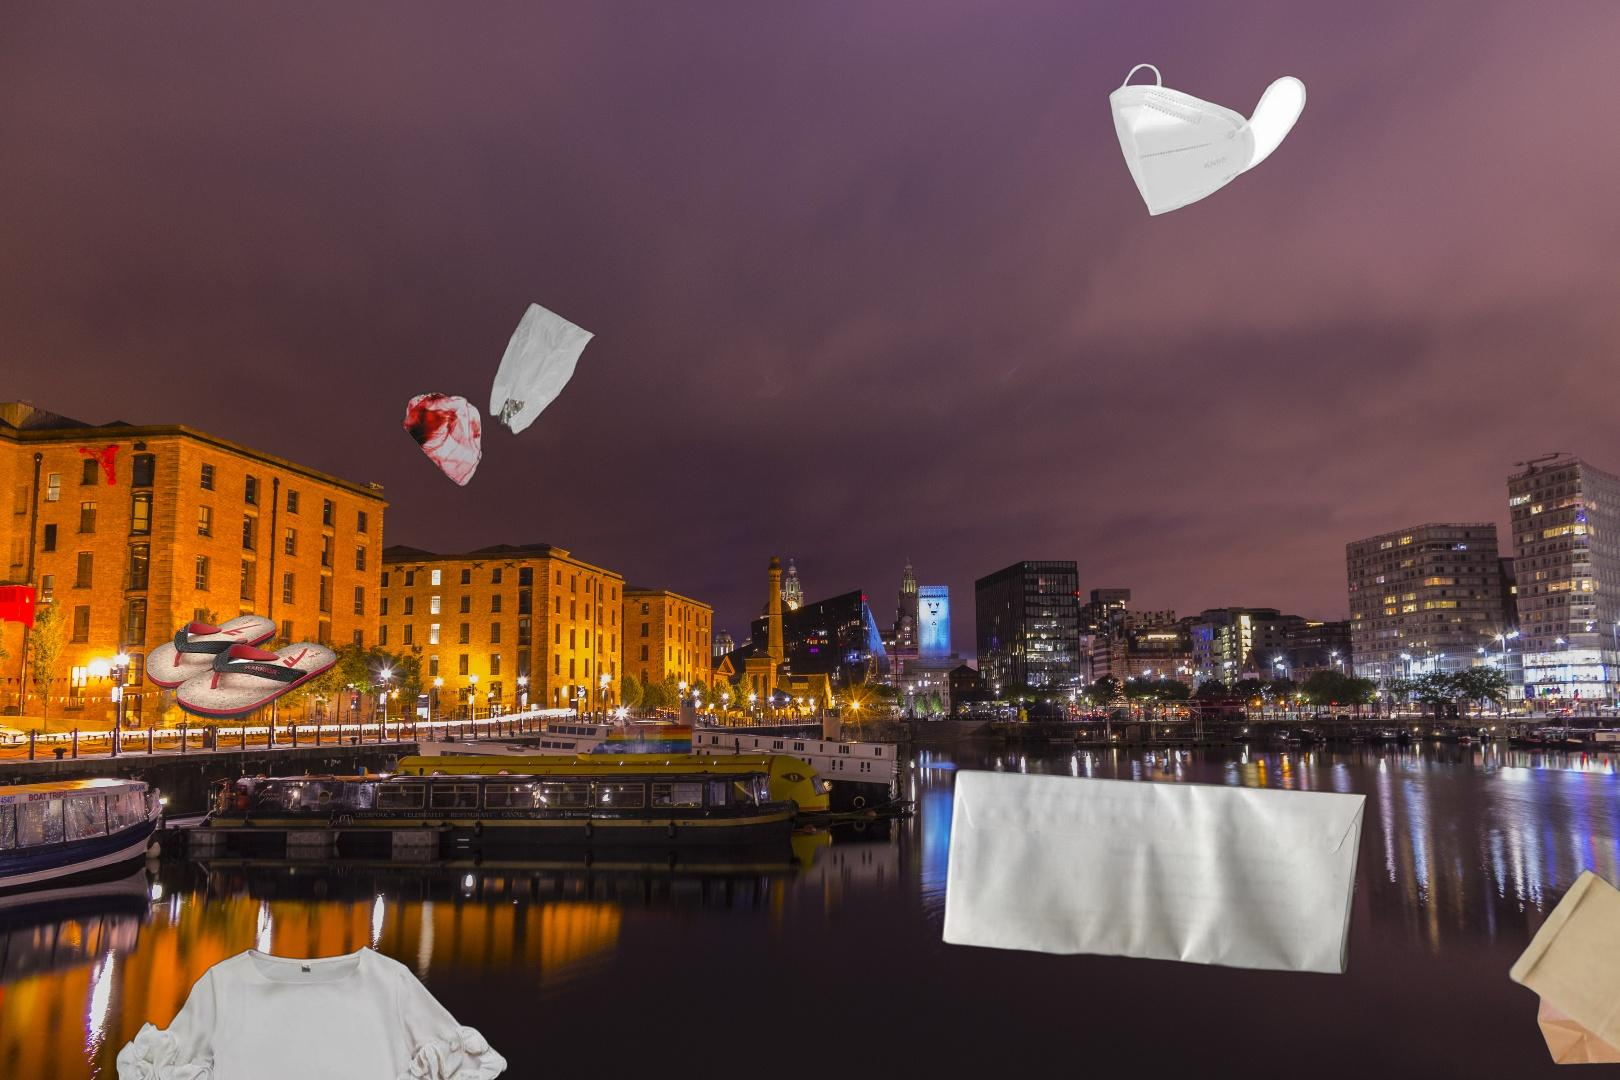clothes: (115, 943, 510, 1080)
paper: (937, 767, 1370, 978)
paper-bag: (1501, 865, 1620, 1080)
plastic-bag: (399, 299, 598, 489)
shoes: (143, 612, 340, 723)
trash: (1107, 60, 1309, 219)
